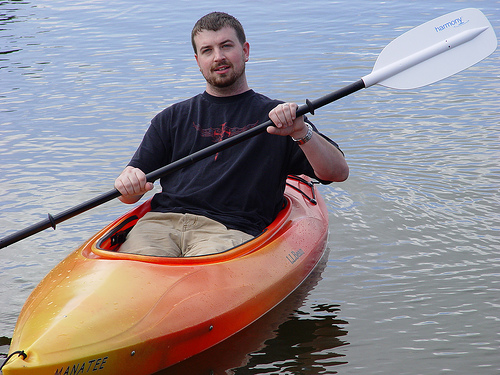without_mask: (191, 29, 252, 90)
